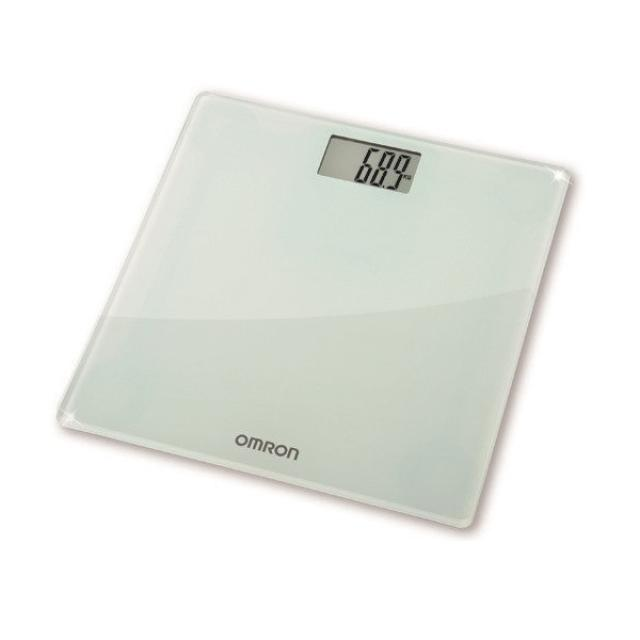.: (381, 184, 386, 191)
6: (355, 146, 378, 182)
8: (369, 151, 396, 186)
9: (389, 150, 410, 192)
screen: (319, 133, 420, 194)
